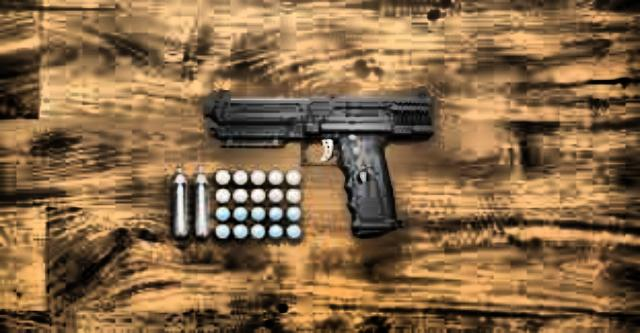pistol: (200, 87, 434, 237)
